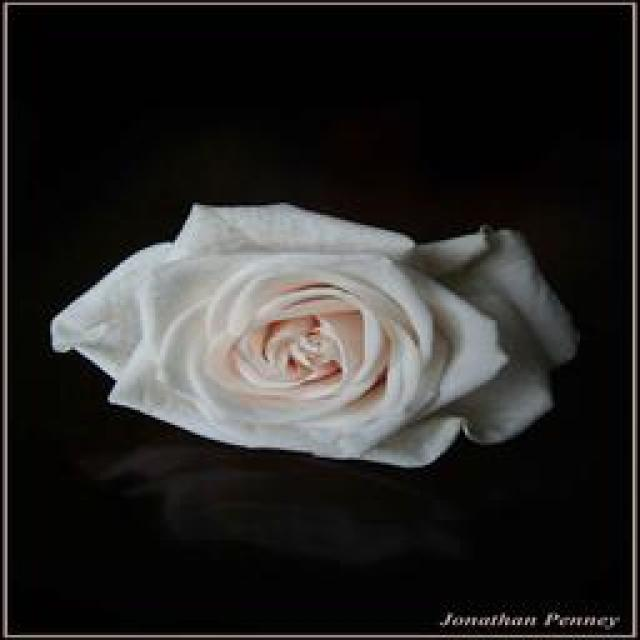rose: (43, 200, 570, 488)
